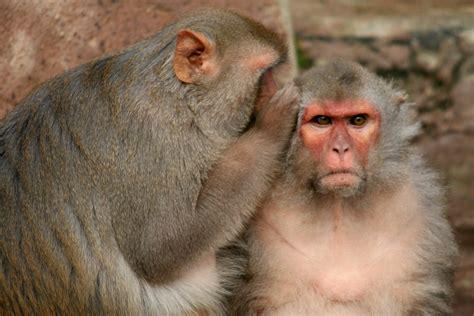monkey: (1, 12, 297, 316), (249, 59, 452, 316)
